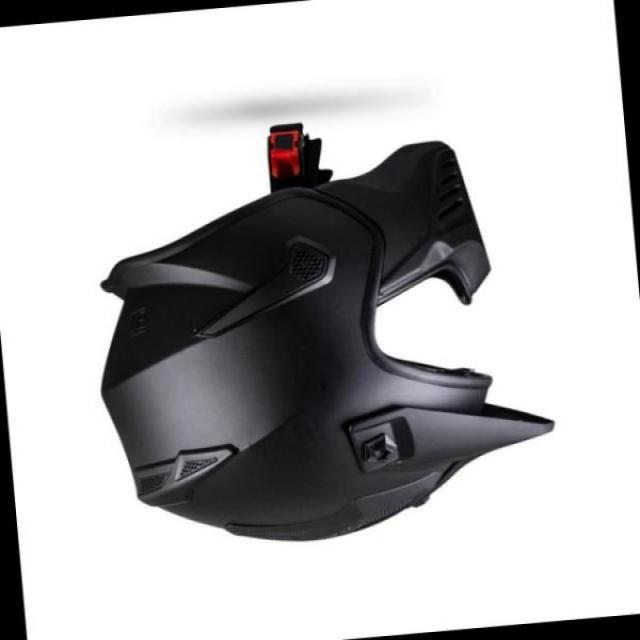Helmet: (91, 109, 575, 544)
